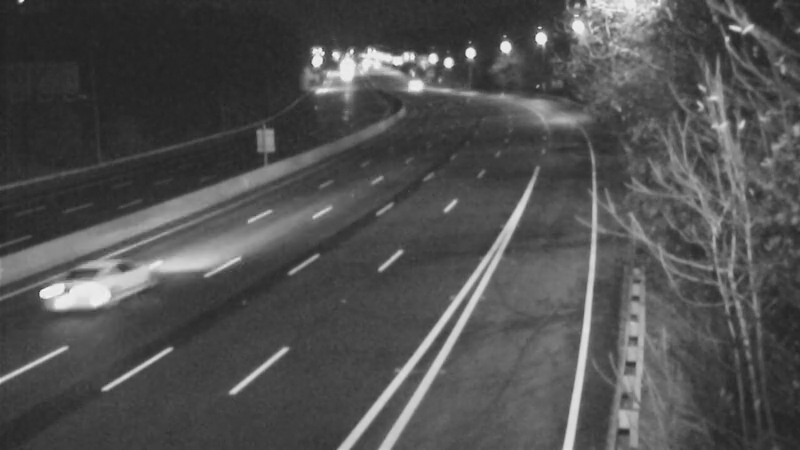vehicle: (42, 241, 122, 321), (388, 59, 438, 109)
